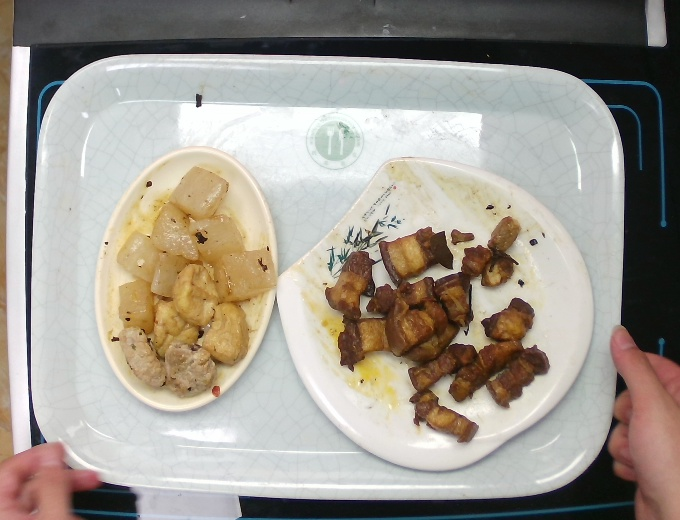JYsf-Mian_Pan: (275, 146, 598, 475)
JYsf-Tuo_Yuan_Wan: (88, 140, 283, 414)
